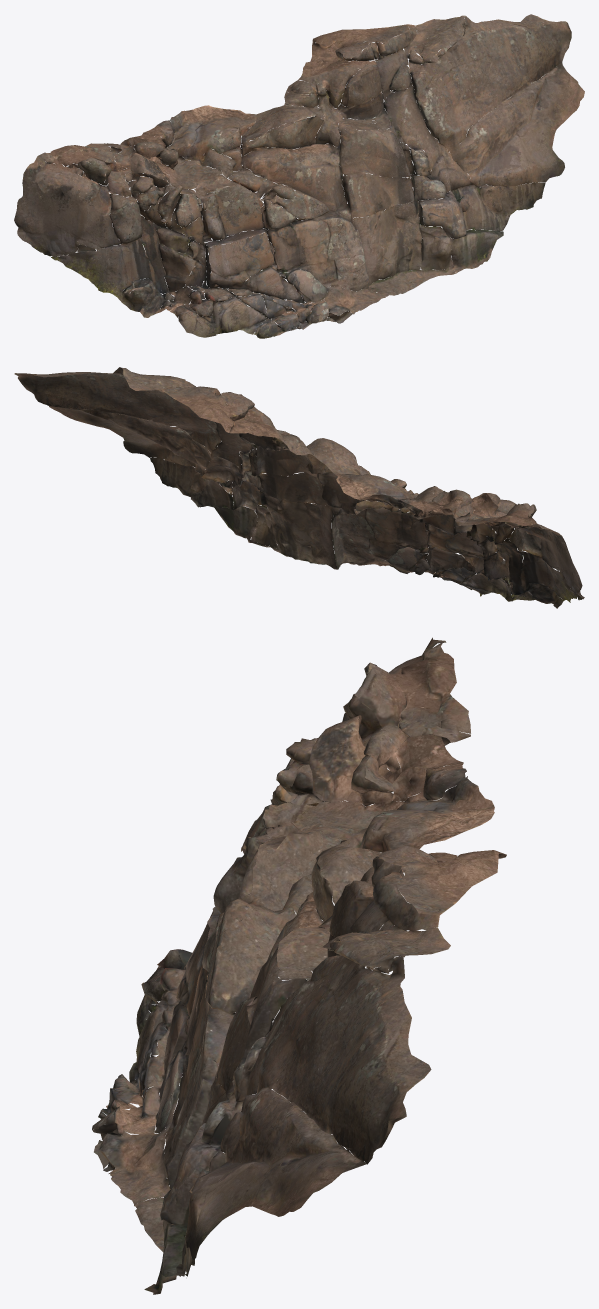
File: namaqualand_cliff_02_lod0.glb
The picture shows the model from 3 angles, top to bottom: view 1: azimuth 30°, elevation 25°; view 2: azimuth 150°, elevation 25°; view 3: azimuth 270°, elevation 25°; orthographic projection. The views are drawn at different scales.
Visible parts, largest first — view 1: namaqualand_cliff_02; view 2: namaqualand_cliff_02; view 3: namaqualand_cliff_02.
Part boxes in pixels (x1,y1,x2,y2): namaqualand_cliff_02: [14, 14, 584, 338]; namaqualand_cliff_02: [14, 367, 584, 608]; namaqualand_cliff_02: [92, 637, 506, 1294].
Size of the model in its own units: 17.99 by 6.4 by 5.88.
1 material, 1 textured.
